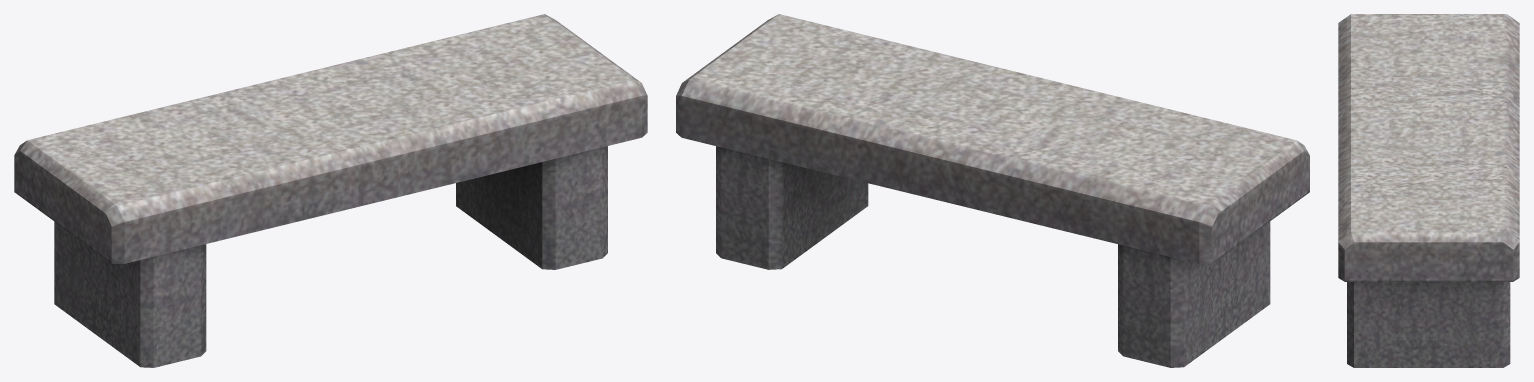
File: furni_0200731.FBX
3 renders of one model, left to right at view 1: azimuth 30°, elevation 25°; view 2: azimuth 150°, elevation 25°; view 3: azimuth 270°, elevation 25°, orthographic. The views are drawn at different scales.
Visible parts, largest first — view 1: furni_0200731; view 2: furni_0200731; view 3: furni_0200731.
Part boxes in pixels (x1,y1,x2,y2): furni_0200731: (14, 14, 647, 367); furni_0200731: (676, 14, 1309, 367); furni_0200731: (1338, 14, 1519, 367).
Size of the model in its own units: 152 by 45.74 by 51.57.
Materials: 1 (1 with a texture image).
